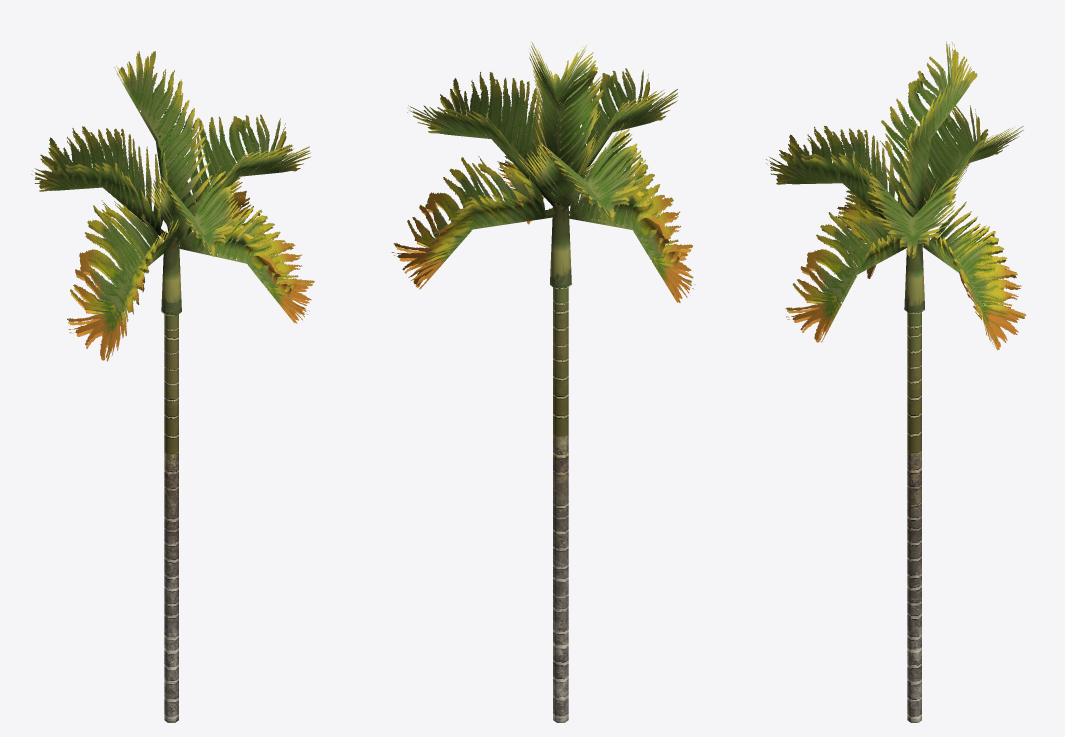
The model's file is palm_areca_1.glb.
The picture shows the model from 3 angles, left to right: view 1: azimuth 30°, elevation 25°; view 2: azimuth 150°, elevation 25°; view 3: azimuth 270°, elevation 25°; orthographic projection. The views are drawn at different scales.
Visible parts, largest first — view 1: palm_areca_1; view 2: palm_areca_1; view 3: palm_areca_1.
Part boxes in pixels (left/top/right/bottom): palm_areca_1: left=31, top=51, right=314, bottom=722; palm_areca_1: left=391, top=42, right=695, bottom=722; palm_areca_1: left=766, top=41, right=1026, bottom=722.
Bounding box in the file's own units: 5.31 × 12.65 × 5.08.
1 material, 1 textured.
